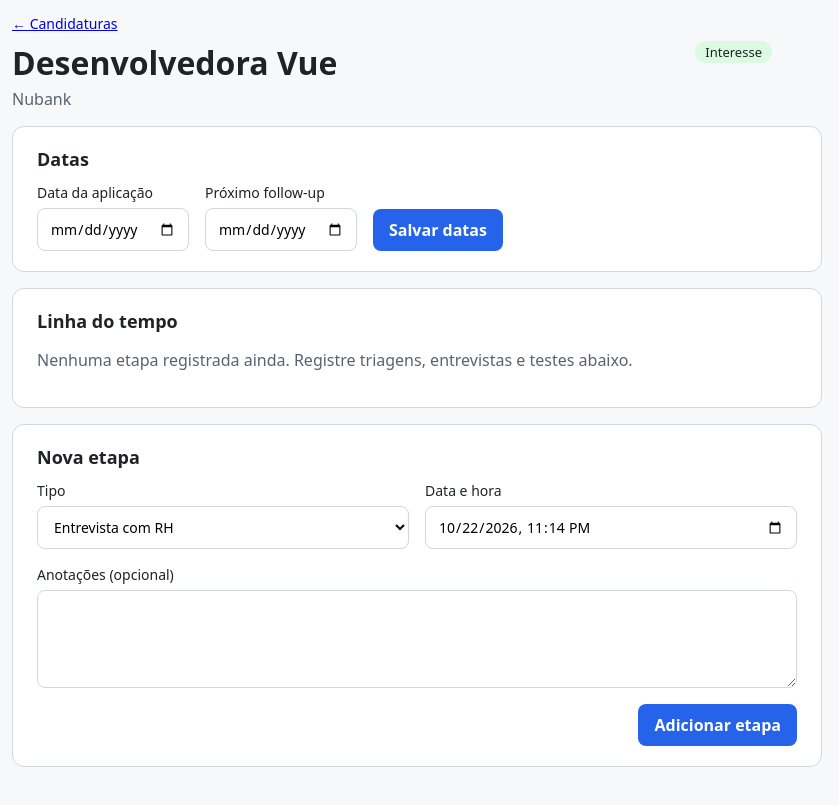
Test: CandidaturaView › adicionar etapa › mostra o erro de validação da API embaixo do campo, sem perder o que foi digitado
In the text box with test id "anotacoes": (417, 639) [37,590,797,688], type "texto longo demais"
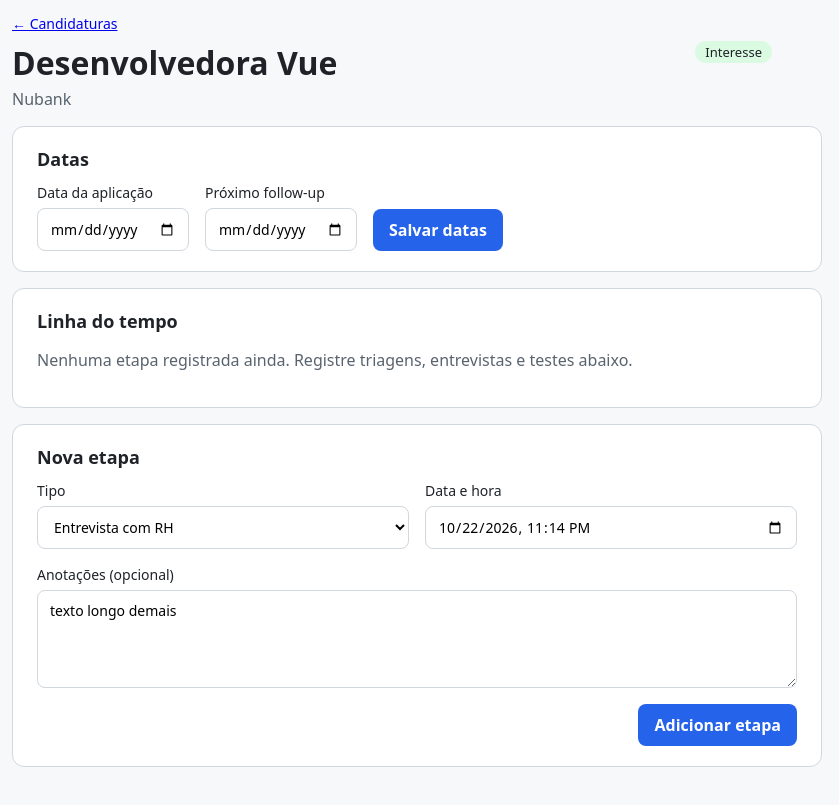
Submit the form from the button with test id "salvar-etapa", box [638,704,797,746]
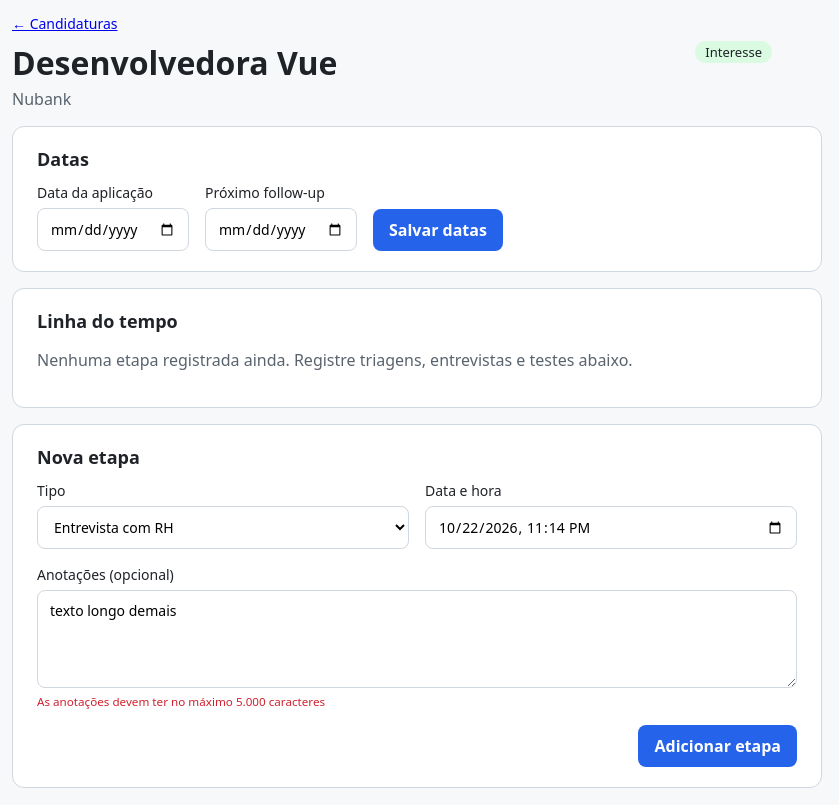
Now the text "no máximo 5.000 caracteres" is shown, box [37,694,325,709]
